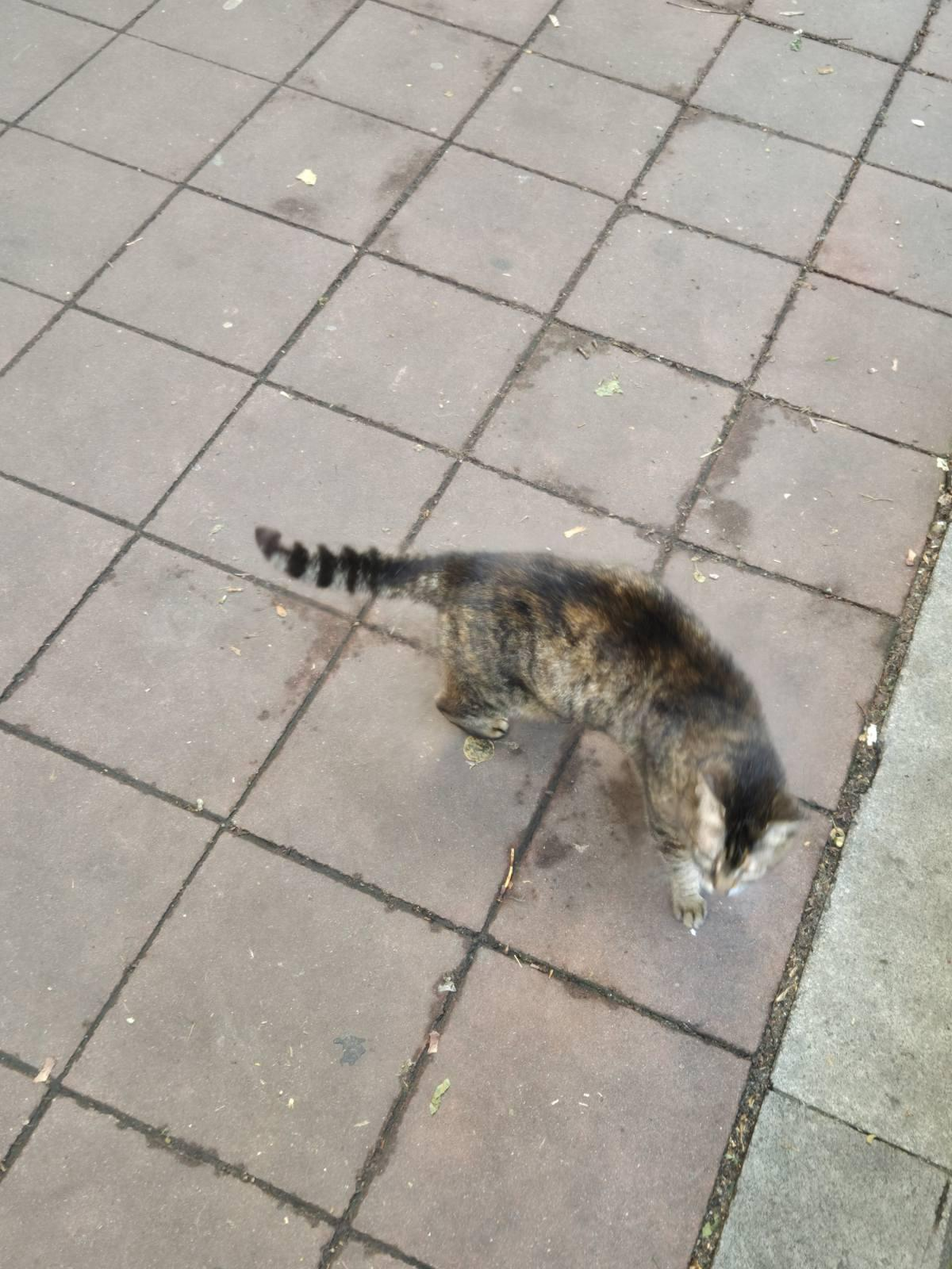macka: (252, 523, 810, 928)
